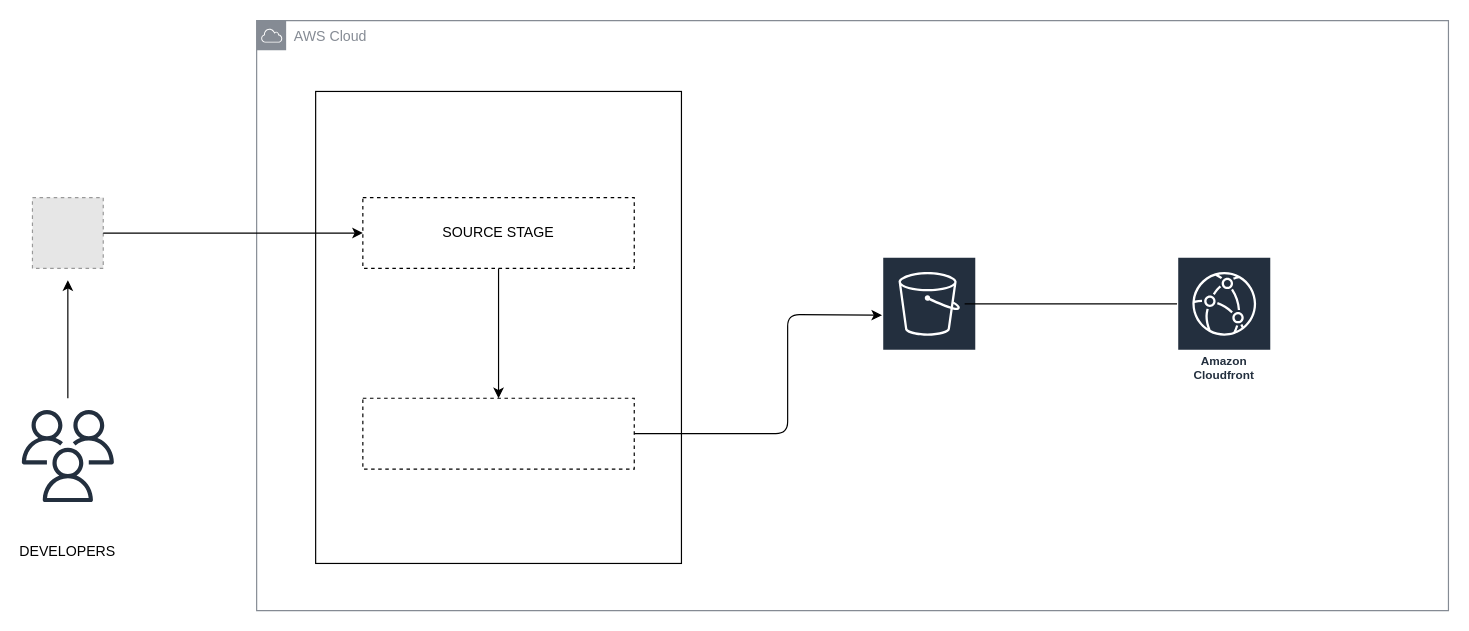
This 1469x631 diagram has some shape labels left out. Grey dashed boxes stand in for pictures. The centre of each missing label's shape, as x and y in pixels:
"Amazon S3" goes at (x=928, y=315).
"BUILD & DEPLOY" goes at (x=498, y=433).
